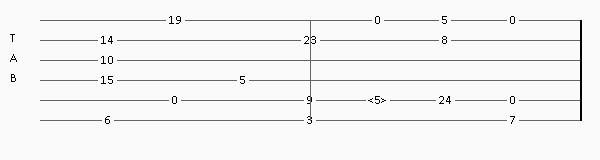0: (171, 94, 182, 106), (374, 14, 385, 26), (509, 14, 520, 26), (509, 94, 520, 106)
10: (100, 54, 118, 66)
14: (100, 34, 118, 46)
15: (100, 74, 118, 86)
19: (168, 14, 186, 26)
23: (303, 34, 321, 46)
24: (438, 94, 456, 106)
3: (306, 114, 317, 126)
5: (239, 74, 250, 86), (441, 14, 452, 26)
6: (104, 114, 115, 126)
7: (509, 114, 520, 126)
8: (441, 34, 452, 46)
9: (306, 94, 317, 106)
harmonic: (368, 94, 391, 106)
